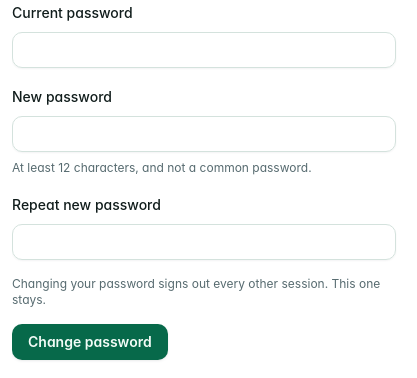
Test: pre-validation › blocks a new password equal to the current one
This screenshot has width=417, height=378.
In the password field labelled "Current password": {"x": 204, "y": 50} [12, 32, 396, 68], type "the same passphrase"
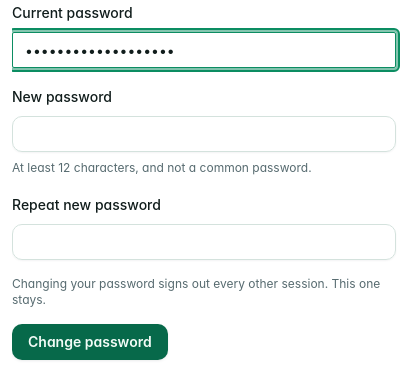
In the password field labelled "New password": {"x": 204, "y": 134} [12, 116, 396, 152], type "the same passphrase"
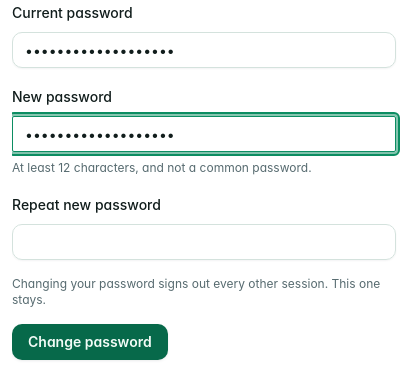
In the password field labelled "Repeat new password": {"x": 204, "y": 242} [12, 224, 396, 260], type "the same passphrase"
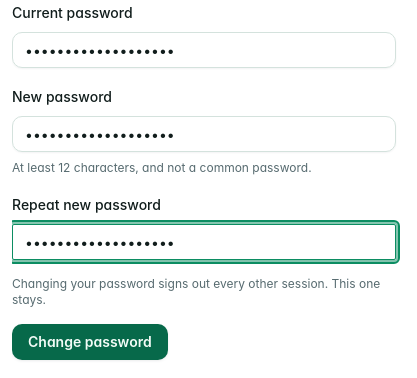
Click the button "Change password": {"x": 90, "y": 342} [12, 324, 168, 360]
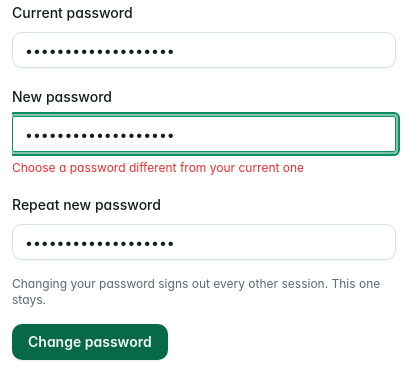
expect the text "Choose a password different from your current one" is shown: met, box [12, 160, 304, 175]
